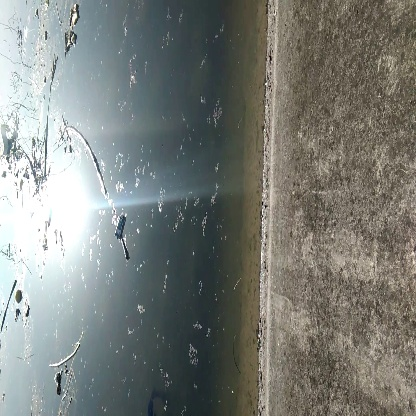branch: (68, 122, 113, 200)
